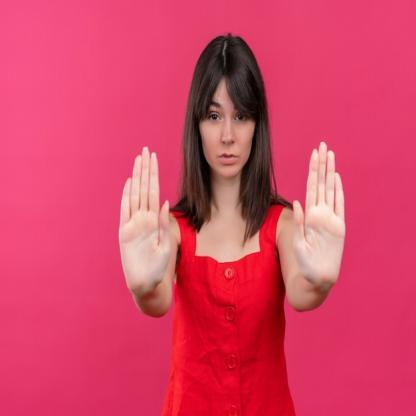thumb_down: (115, 142, 176, 295)
